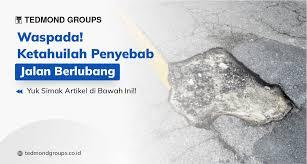Pothole: (152, 44, 299, 157)
